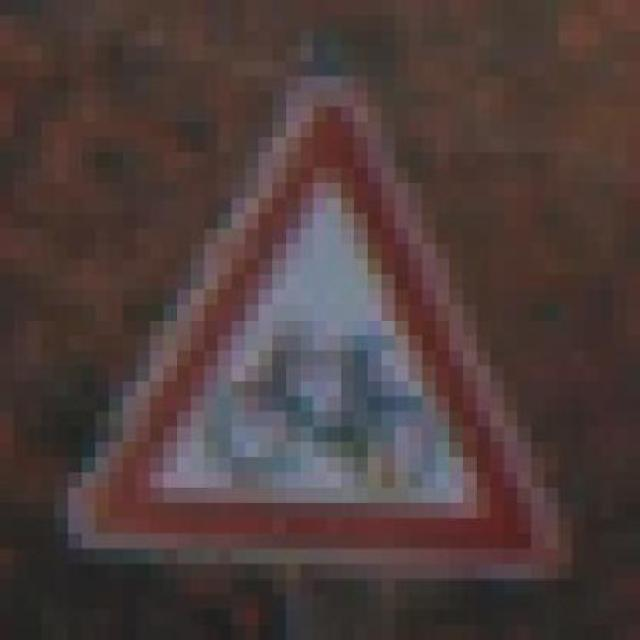CYCLE ROUTE AHEAD WARNING: (68, 61, 586, 579)
